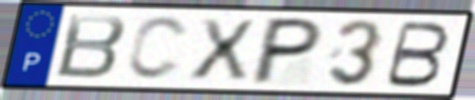3: (319, 17, 390, 89)
B: (52, 12, 130, 82), (381, 19, 453, 90)
C: (123, 14, 192, 83)
P: (245, 15, 328, 87)
X: (186, 16, 259, 82)
